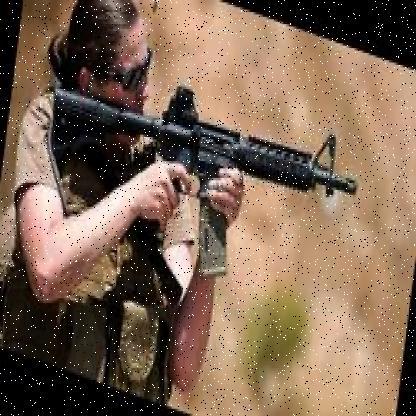rifle: (36, 52, 369, 322)
